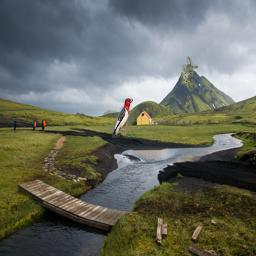Sparrow: (181, 56, 198, 84)
Woodpecker: (112, 98, 133, 138)
